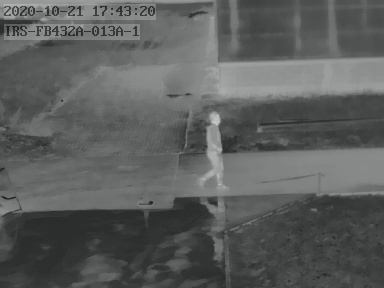person: (197, 110, 229, 192)
